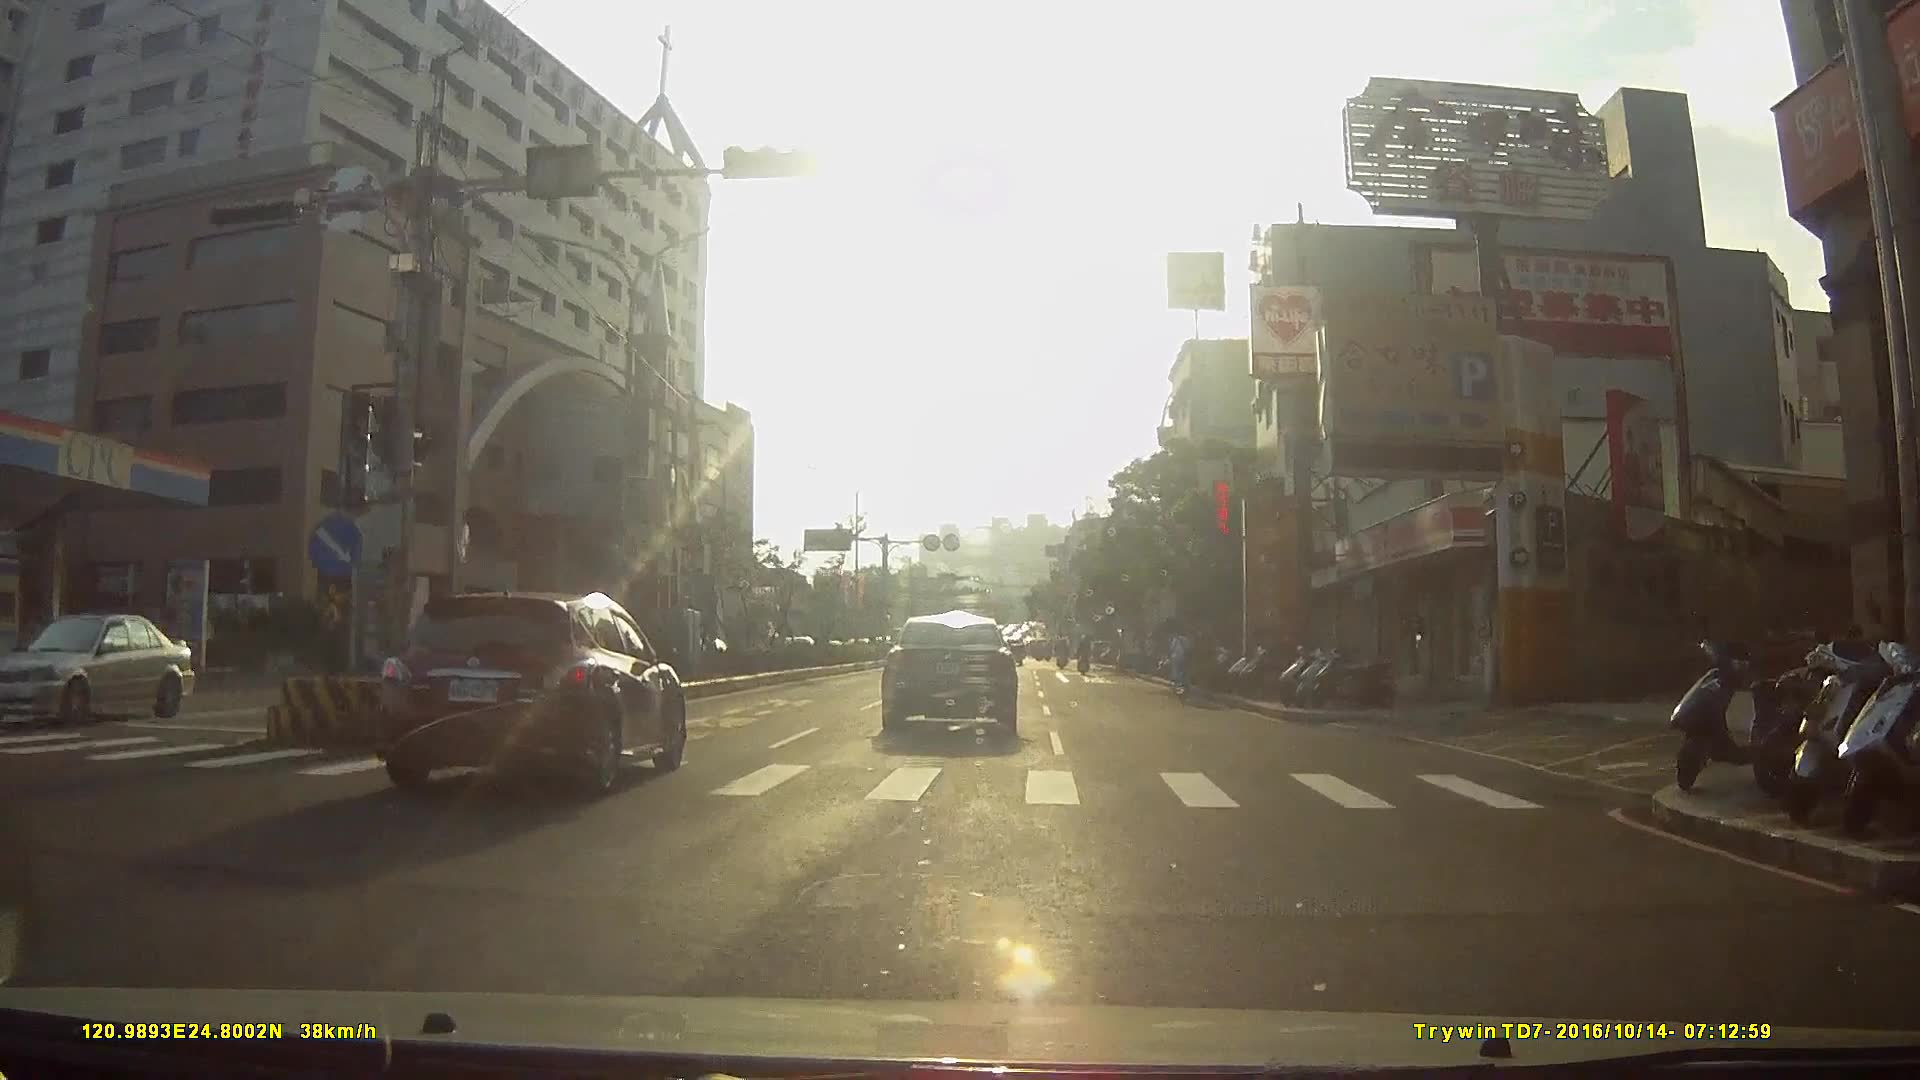rider: (1168, 624, 1197, 707)
vehicle: (369, 580, 698, 801), (15, 608, 196, 736), (875, 603, 1029, 739), (763, 607, 822, 662)
